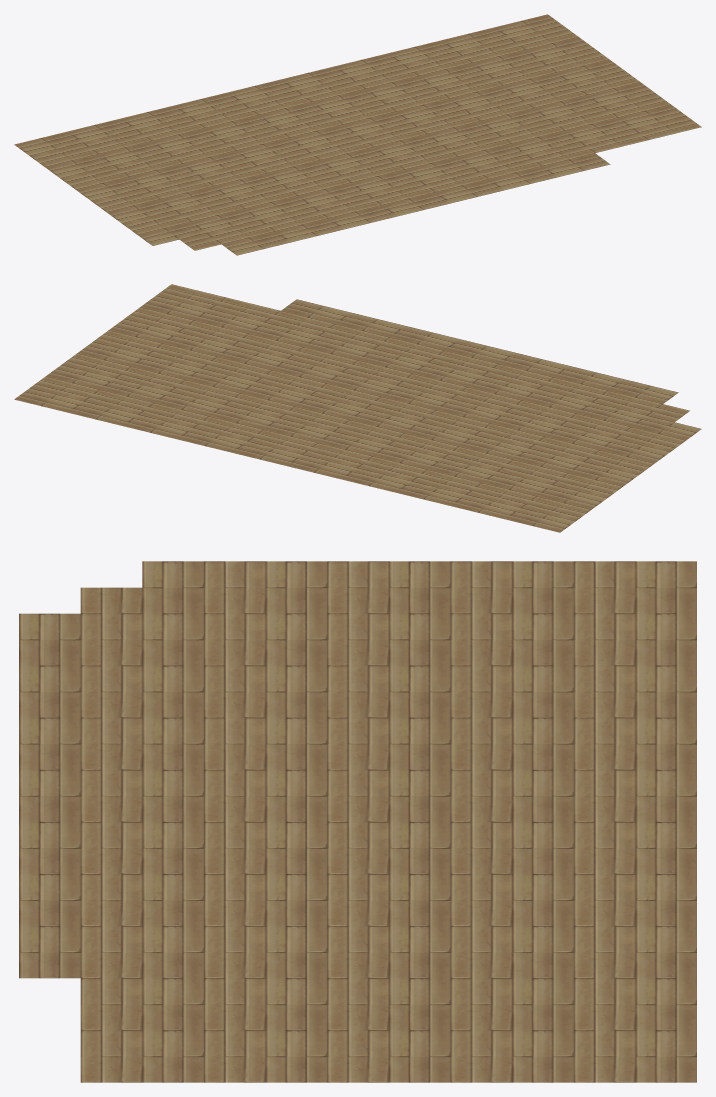
File: K1_floor5.FBX
3 views of the same model, one above another, from view 1: azimuth 30°, elevation 25°; view 2: azimuth 150°, elevation 25°; view 3: azimuth 270°, elevation 25° (orthographic). The views are drawn at different scales.
Visible parts, largest first — view 1: floor5; view 2: floor5; view 3: floor5.
Boxes of the visible parts, left/top/right/bottom form: floor5: left=14, top=14, right=701, bottom=255; floor5: left=14, top=284, right=701, bottom=532; floor5: left=19, top=561, right=696, bottom=1082.
Size of the model in its own units: 11.76 by 1.54e-07 by 6.47.
